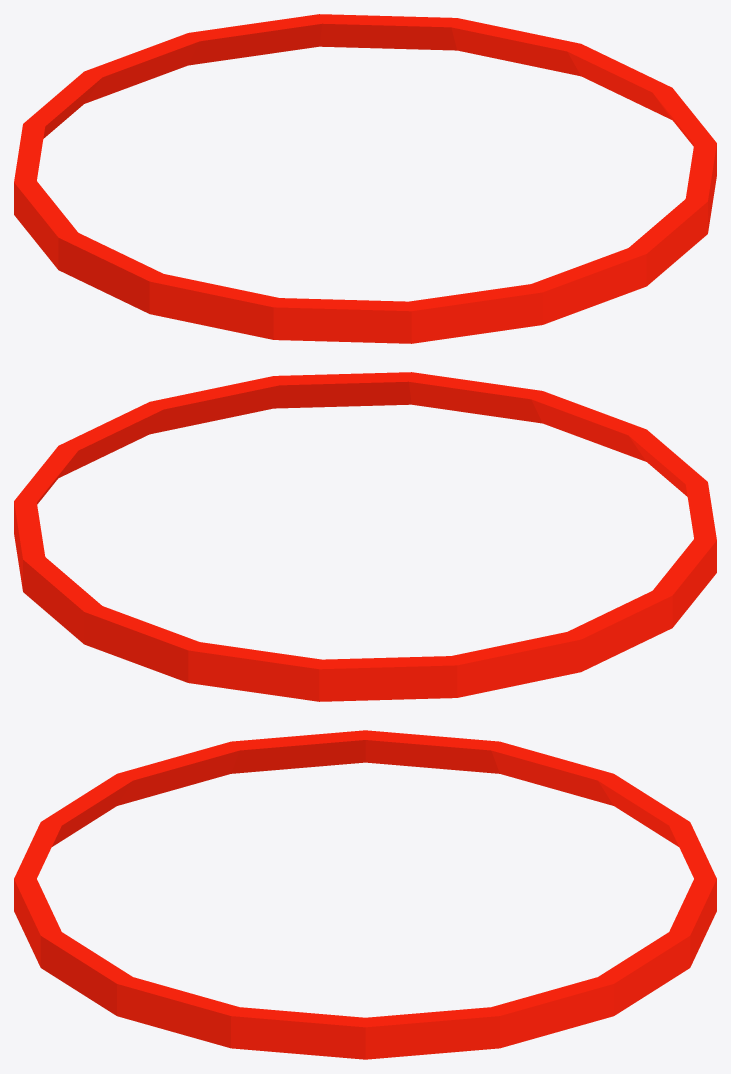
The model's file is Ring_Red_Light.glb.
3 views of the same model, one above another, from view 1: azimuth 30°, elevation 25°; view 2: azimuth 150°, elevation 25°; view 3: azimuth 270°, elevation 25° (orthographic).
Visible parts, largest first — view 1: Cylinder.013; view 2: Cylinder.013; view 3: Cylinder.013.
Part boxes in pixels (<box>): Cylinder.013: <box>14,14,716,343</box>; Cylinder.013: <box>14,372,716,701</box>; Cylinder.013: <box>14,730,716,1059</box>.
Size of what is drawn, in the model's own units: 2 by 0.1015 by 2.
Materials: 1 (1 with a texture image).
